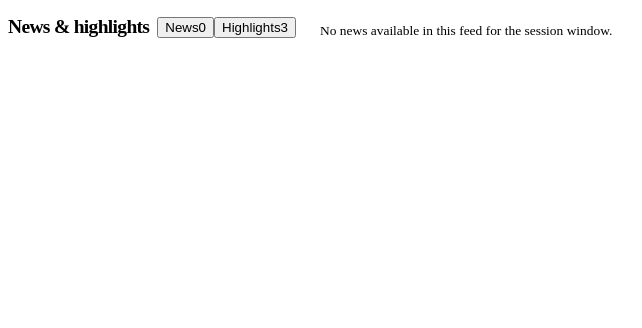
Test: defaults to honest empty News without silently displaying Highlights (en)
Expected: the message shows "No news available in this feed", [320,23,612,38]
Click the tab "Highlights3": click(255, 27) [214,16,296,38]
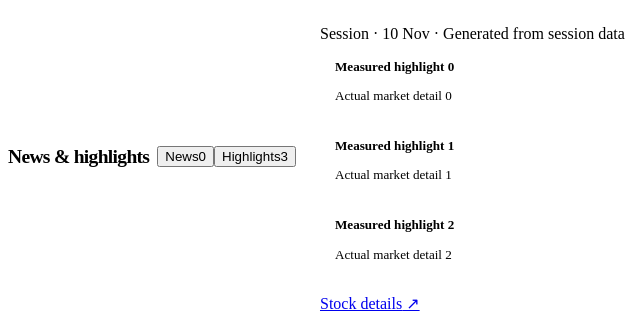
Now the text "Actual market detail 0" is shown, box [335,88,454,104]
